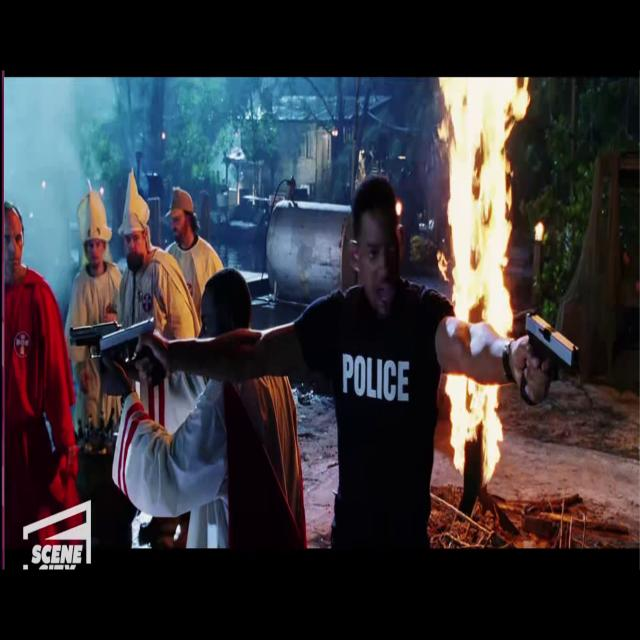weapons: (516, 300, 588, 424), (94, 301, 176, 392)
